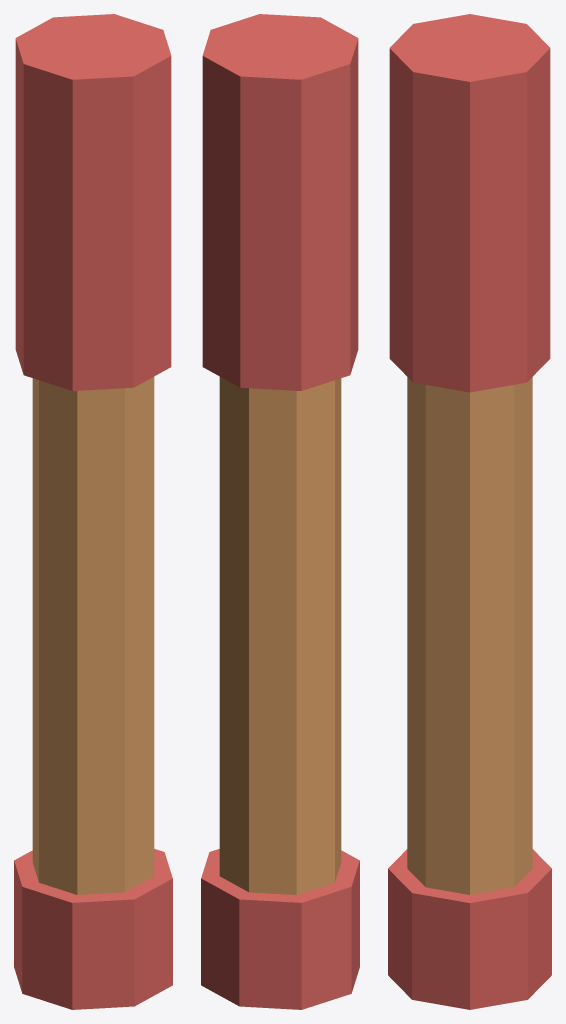
File: flare.fbx
3 renders of one model, left to right at view 1: azimuth 30°, elevation 25°; view 2: azimuth 150°, elevation 25°; view 3: azimuth 270°, elevation 25°, orthographic.
Visible parts, largest first — view 1: Cylinder; view 2: Cylinder; view 3: Cylinder.
Boxes of the visible parts, <box> form: Cylinder: <box>14,14,172,1009</box>; Cylinder: <box>201,14,359,1009</box>; Cylinder: <box>388,14,551,1009</box>.
Size of the model in its own units: 26.12 by 163 by 26.12.
